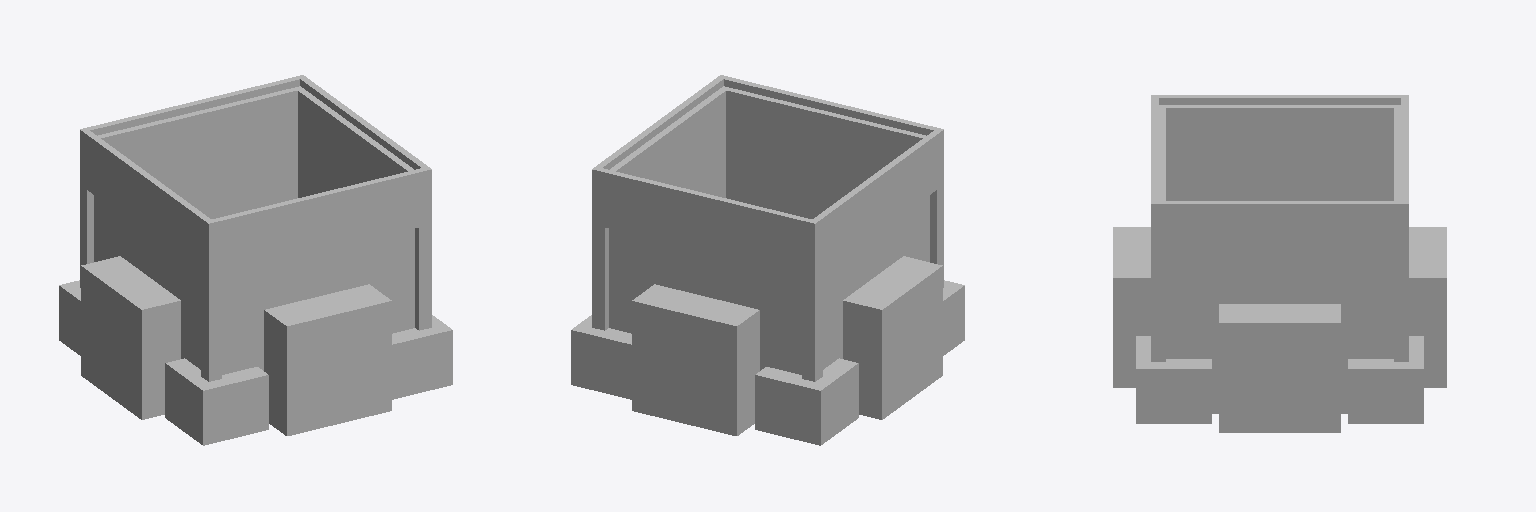
Rendered from electric_furnace.obj.
3 renders of one model, left to right at view 1: azimuth 30°, elevation 25°; view 2: azimuth 150°, elevation 25°; view 3: azimuth 270°, elevation 25°, orthographic.
Parts seen in each view (by area): view 1: cauldronside_Cube.001, Cube.002_Cube.002, Cube.001, Cube.007_Cube.001, Cube.004_Cube.001, Cube.001_Cube.001, Cube.009_Cube.001, Cube.011_Cube.001, Cube.012_Cube.001; view 2: cauldronside_Cube.001, Cube.005_Cube.001, Cube.001, Cube.007_Cube.001, Cube.004_Cube.001, Cube.001_Cube.001, Cube.009_Cube.001, Cube.011_Cube.001, Cube.012_Cube.001; view 3: cauldronside_Cube.001, Cube.002, Cube.001, Cube.004_Cube.001, Cube.009_Cube.001, Cube.001_Cube.001, Cube.002_Cube.002, Cube.005_Cube.001, Cube.012_Cube.001, Cube.011_Cube.001.
Boxes of the visible parts, x1,y1,x2,y2 form: cauldronside_Cube.001: [94, 132, 414, 374]; Cube.002_Cube.002: [264, 284, 391, 435]; Cube.001: [80, 75, 431, 236]; Cube.007_Cube.001: [81, 256, 180, 419]; Cube.004_Cube.001: [59, 280, 452, 445]; Cube.001_Cube.001: [80, 104, 431, 250]; Cube.009_Cube.001: [80, 118, 431, 264]; Cube.011_Cube.001: [80, 185, 431, 381]; Cube.012_Cube.001: [80, 171, 431, 278]; cauldronside_Cube.001: [609, 132, 929, 374]; Cube.005_Cube.001: [632, 284, 759, 435]; Cube.001: [592, 75, 943, 236]; Cube.007_Cube.001: [843, 256, 942, 419]; Cube.004_Cube.001: [571, 280, 964, 445]; Cube.001_Cube.001: [592, 104, 943, 250]; Cube.009_Cube.001: [592, 118, 943, 264]; Cube.011_Cube.001: [592, 185, 943, 381]; Cube.012_Cube.001: [592, 171, 943, 278]; cauldronside_Cube.001: [1166, 149, 1393, 413]; Cube.002: [1219, 304, 1340, 432]; Cube.001: [1151, 95, 1408, 217]; Cube.004_Cube.001: [1136, 336, 1423, 423]; Cube.009_Cube.001: [1151, 136, 1408, 244]; Cube.001_Cube.001: [1151, 122, 1408, 230]; Cube.002_Cube.002: [1113, 227, 1150, 387]; Cube.005_Cube.001: [1409, 227, 1446, 387]; Cube.012_Cube.001: [1151, 245, 1408, 258]; Cube.011_Cube.001: [1151, 259, 1408, 361].
Bounding box in the file's own units: 3.2 × 2.25 × 3.2.